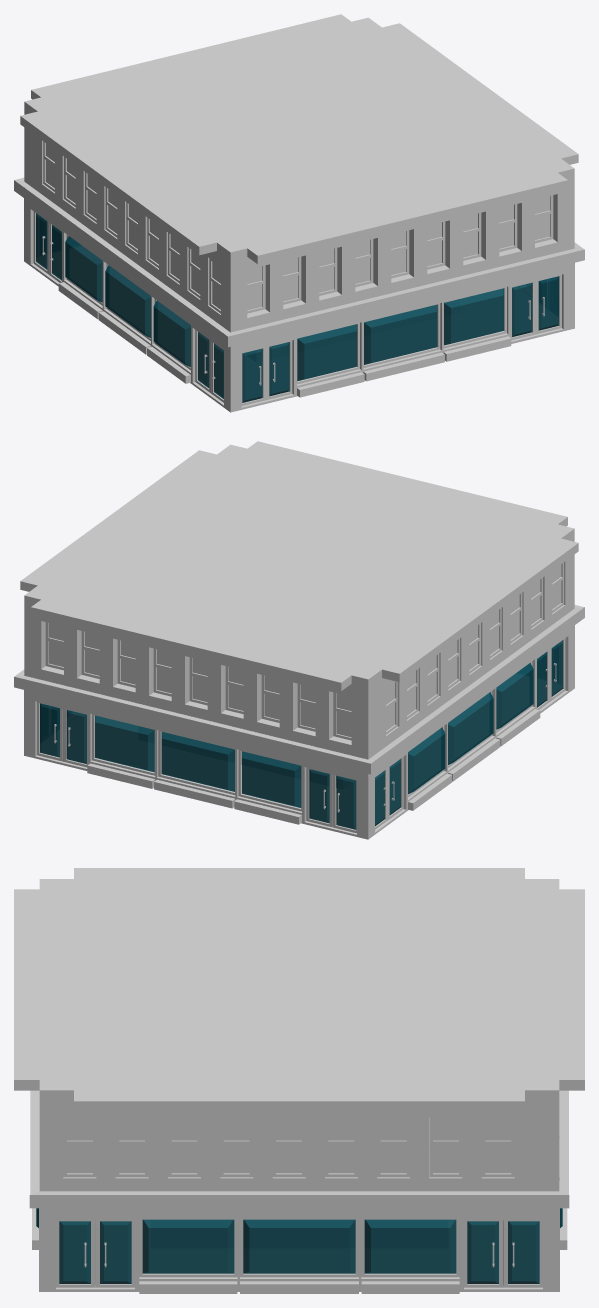
Rendered from building_office_four_sided_01_base.fbx.
3 renders of one model, top to bottom at view 1: azimuth 30°, elevation 25°; view 2: azimuth 150°, elevation 25°; view 3: azimuth 270°, elevation 25°, orthographic. The views are drawn at different scales.
Visible parts, largest first — view 1: building_office_four_sided_01_base, building_office_four_sided_01_base_glass; view 2: building_office_four_sided_01_base, building_office_four_sided_01_base_glass; view 3: building_office_four_sided_01_base, building_office_four_sided_01_base_glass.
Boxes of the visible parts, x1=… form: building_office_four_sided_01_base: x1=14, y1=14, x2=584, y2=412; building_office_four_sided_01_base_glass: x1=36, y1=213, x2=558, y2=402; building_office_four_sided_01_base: x1=14, y1=441, x2=584, y2=839; building_office_four_sided_01_base_glass: x1=40, y1=640, x2=562, y2=829; building_office_four_sided_01_base: x1=14, y1=868, x2=584, y2=1293; building_office_four_sided_01_base_glass: x1=36, y1=1208, x2=562, y2=1283.
Size of the model in its own units: 1985 by 800 by 2054.
